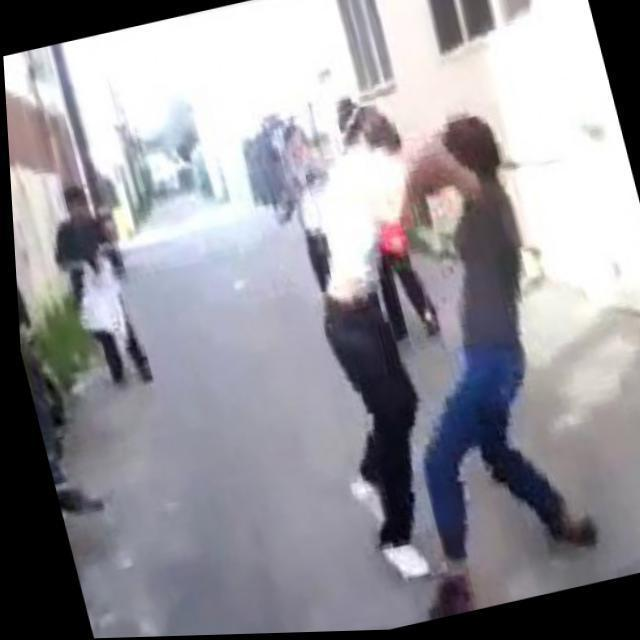fight: (258, 68, 620, 632)
